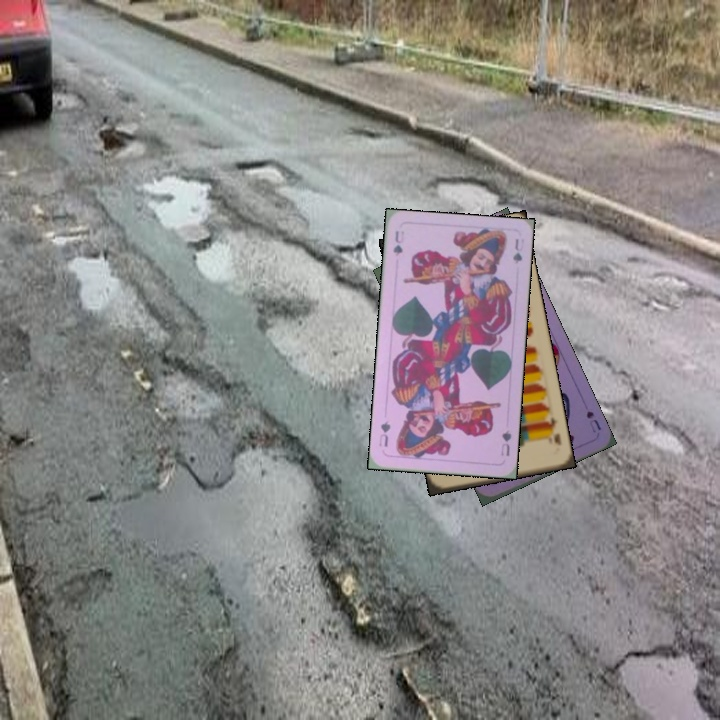E10: (541, 413, 564, 448)
GU: (497, 426, 514, 459), (389, 227, 407, 258)
SU: (582, 407, 603, 435)
